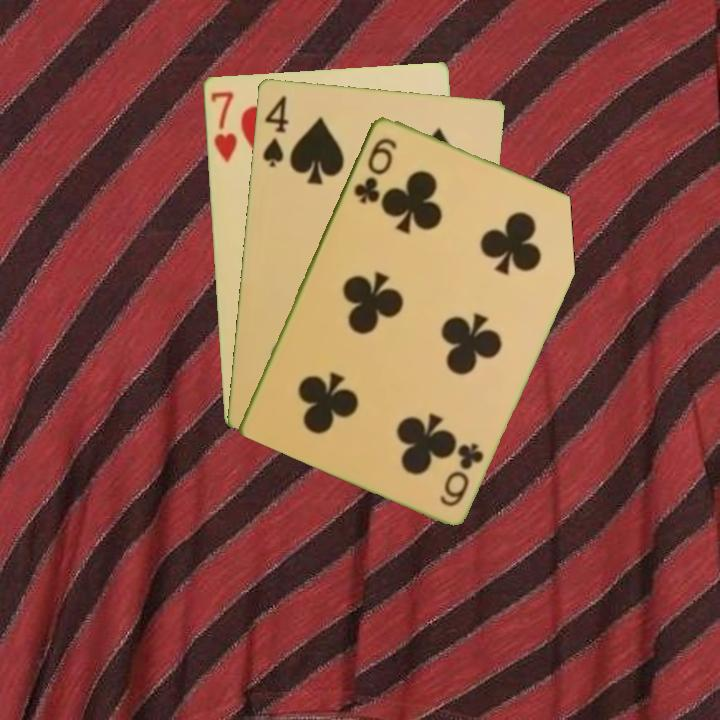4s: (258, 92, 292, 170)
6c: (350, 133, 400, 207), (436, 439, 487, 509)
7h: (206, 87, 240, 165)
